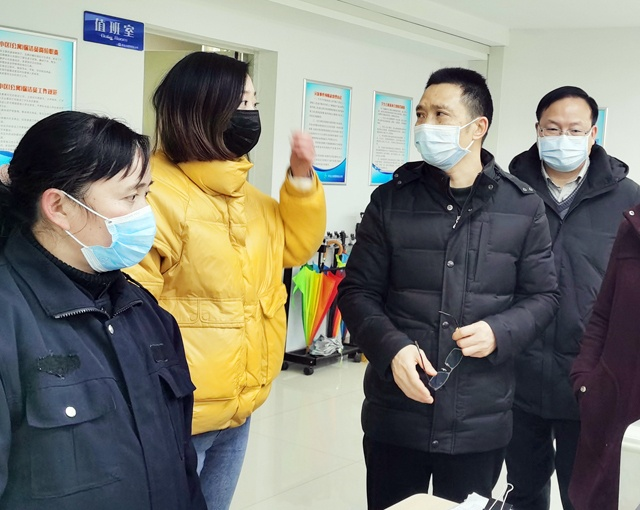correctlyWear: (41, 165, 158, 273), (413, 93, 489, 170), (534, 112, 599, 174), (213, 78, 262, 155)
